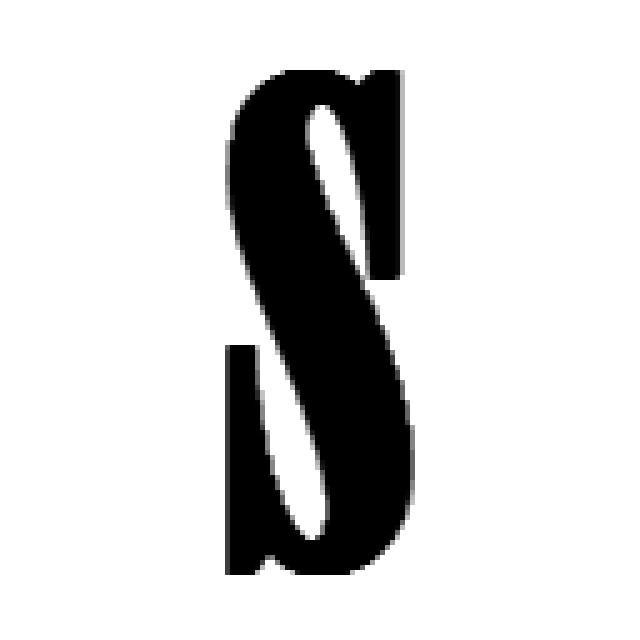S: (210, 60, 420, 580)
